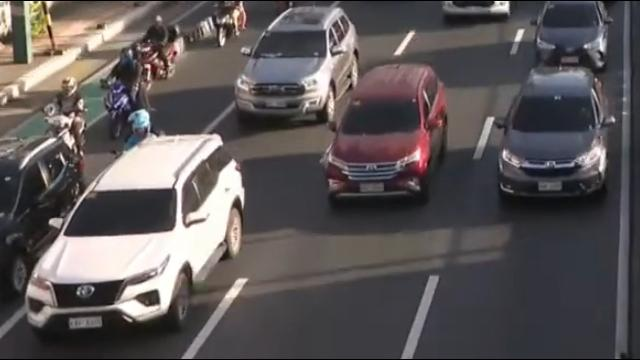car: (28, 134, 244, 336), (324, 61, 447, 207), (494, 67, 612, 206), (236, 7, 360, 122), (0, 133, 77, 307), (526, 0, 613, 72), (439, 0, 519, 19)
motorcycle: (41, 78, 87, 183), (99, 49, 146, 138), (133, 16, 180, 87), (113, 108, 161, 164), (209, 0, 247, 50)
